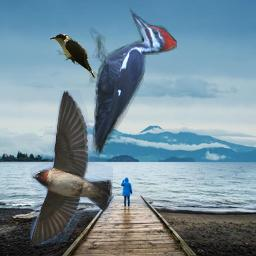Cuckoo: (49, 34, 95, 79)
Swallow: (30, 90, 113, 247)
Woodpecker: (89, 6, 177, 160)
